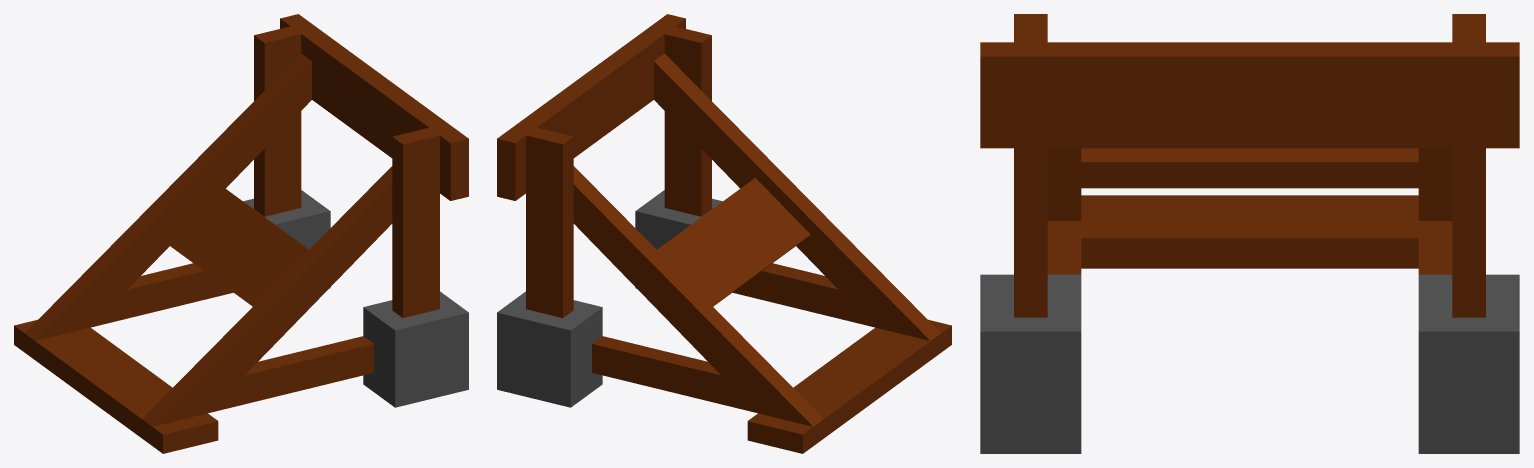
Rendered from trackbuffer.obj.
3 views of the same model, side by side, from view 1: azimuth 30°, elevation 25°; view 2: azimuth 150°, elevation 25°; view 3: azimuth 270°, elevation 25° (orthographic). The views are drawn at different scales.
Visible parts, largest first — view 1: trackbuffer_back; view 2: trackbuffer_back; view 3: trackbuffer_back.
Part boxes in pixels (left/top/right/bottom): trackbuffer_back: left=14, top=14, right=468, bottom=453; trackbuffer_back: left=497, top=14, right=951, bottom=453; trackbuffer_back: left=980, top=14, right=1519, bottom=453.
Size of the model in its own units: 1.28 by 1.04 by 1.28.
